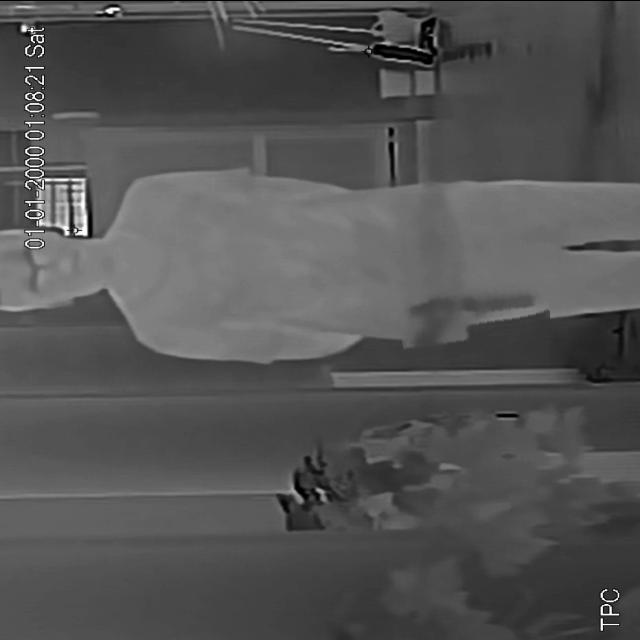Weapon: (396, 266, 550, 347)
